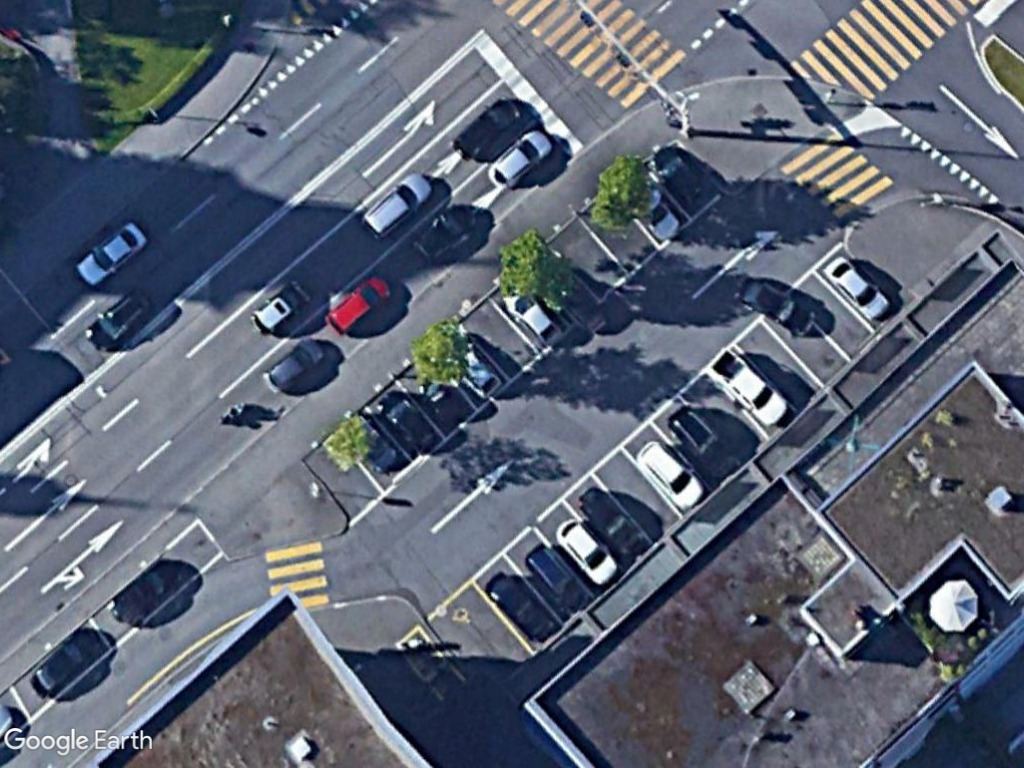car: (75, 215, 149, 289), (631, 438, 705, 510), (360, 168, 433, 239), (738, 274, 817, 338), (820, 255, 891, 322), (553, 517, 620, 588), (323, 271, 393, 336), (488, 128, 554, 192)
others: (710, 346, 794, 430)
